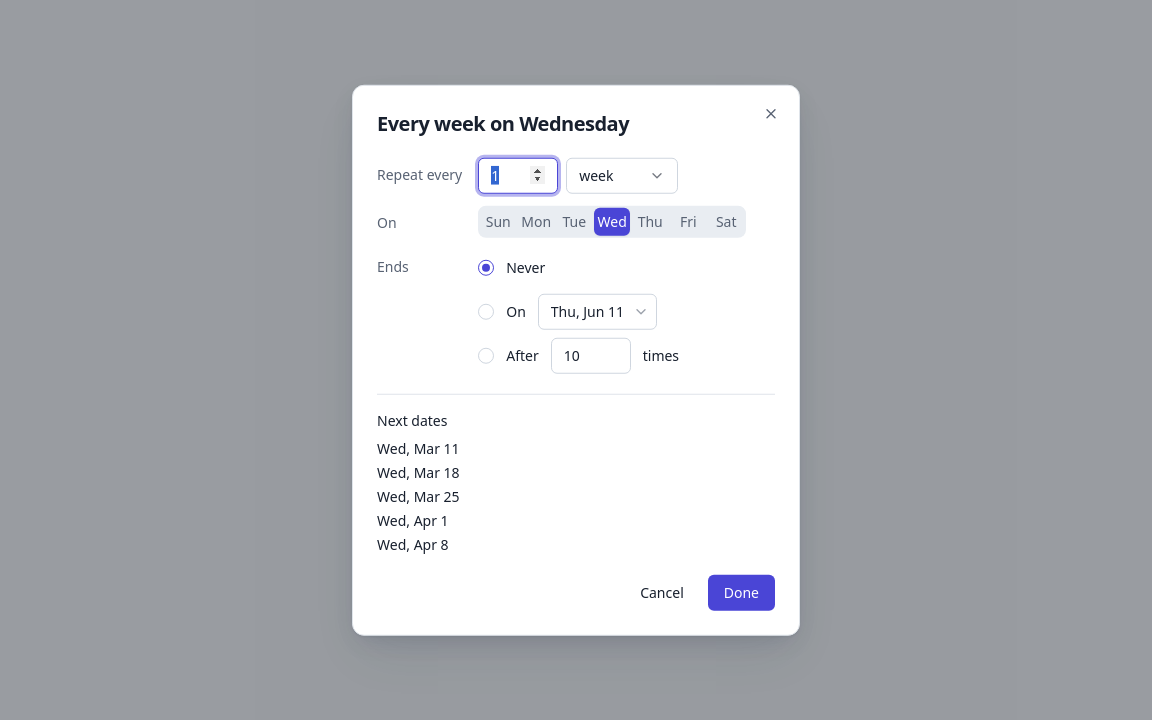
Test: RecurrenceDialog › ends after a number of times, and says that no more follow
Click the radio button named "After" next to "After": (486, 355) x1=478 y1=347 x2=494 y2=363
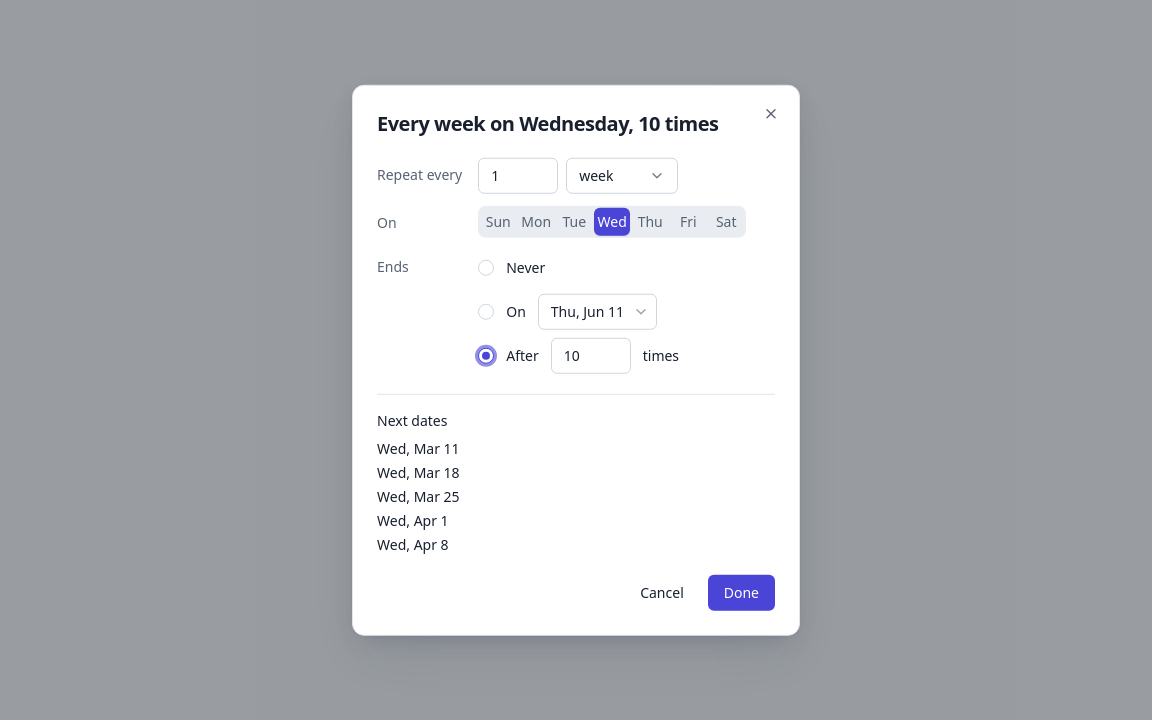
Clear the number field named "Number of times": (591, 355) x1=551 y1=337 x2=631 y2=373
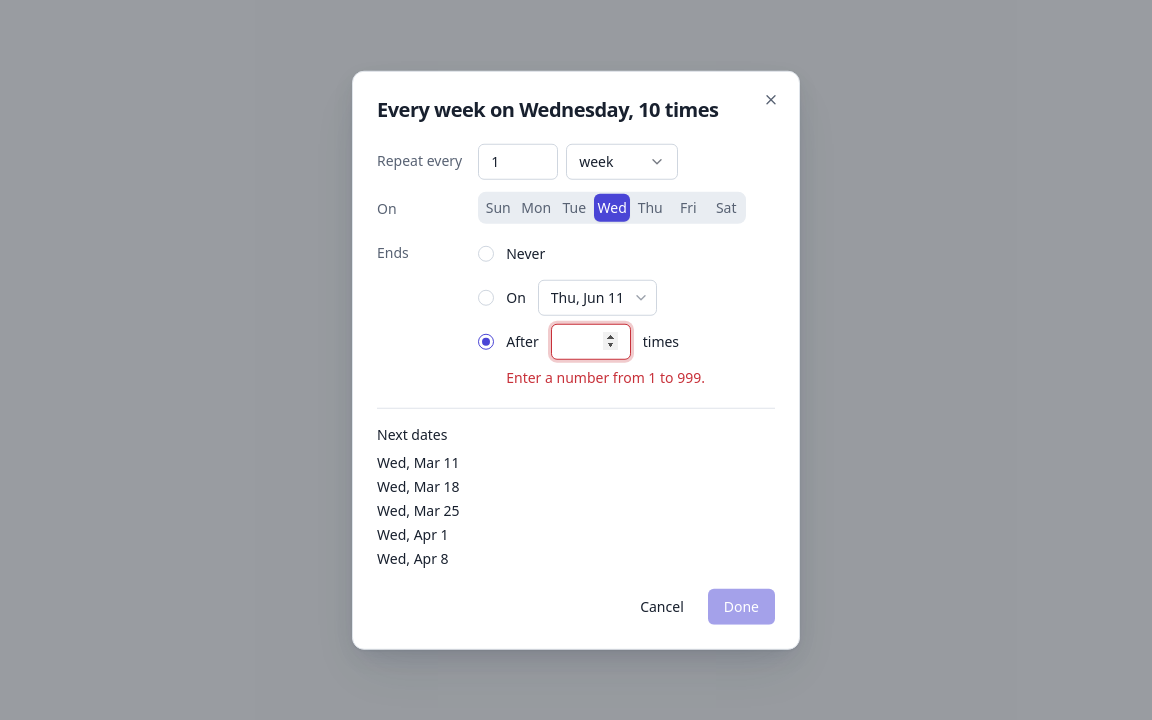
In the number field named "Number of times": (591, 341) x1=551 y1=323 x2=631 y2=359, type "3"
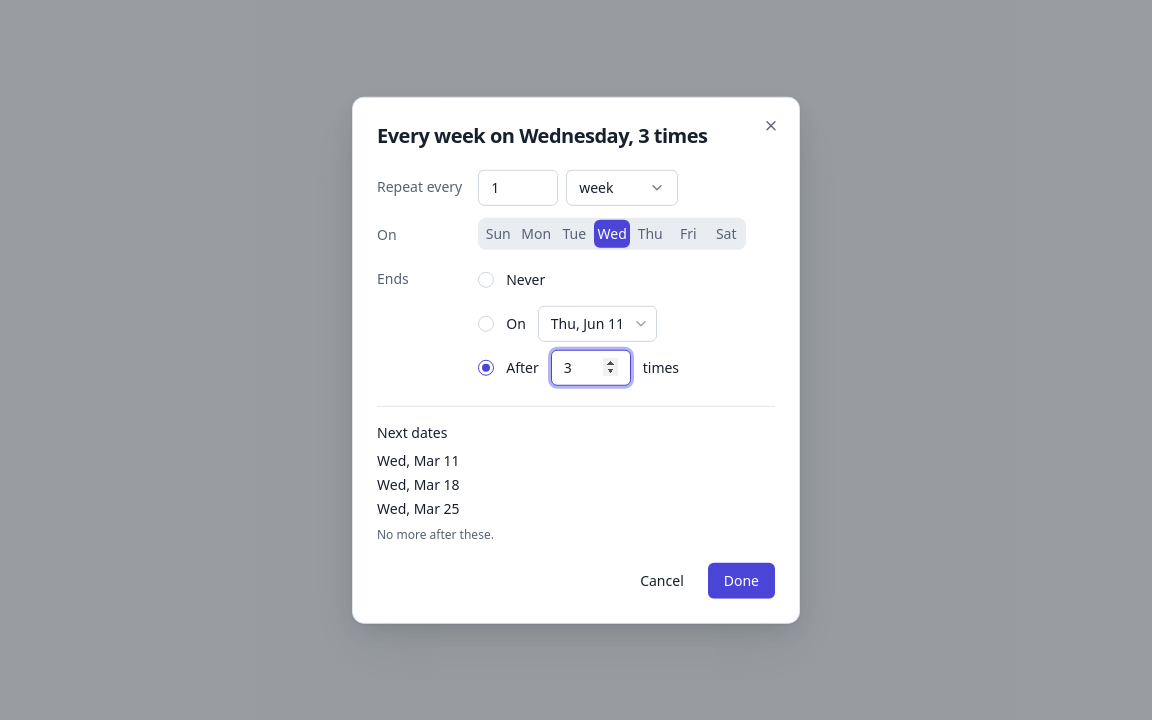
Check: the text "Every week on Wednesday, 3 times" is shown, box x1=377 y1=122 x2=743 y2=149
Check: the text "No more after these." is shown, box x1=377 y1=525 x2=494 y2=542
